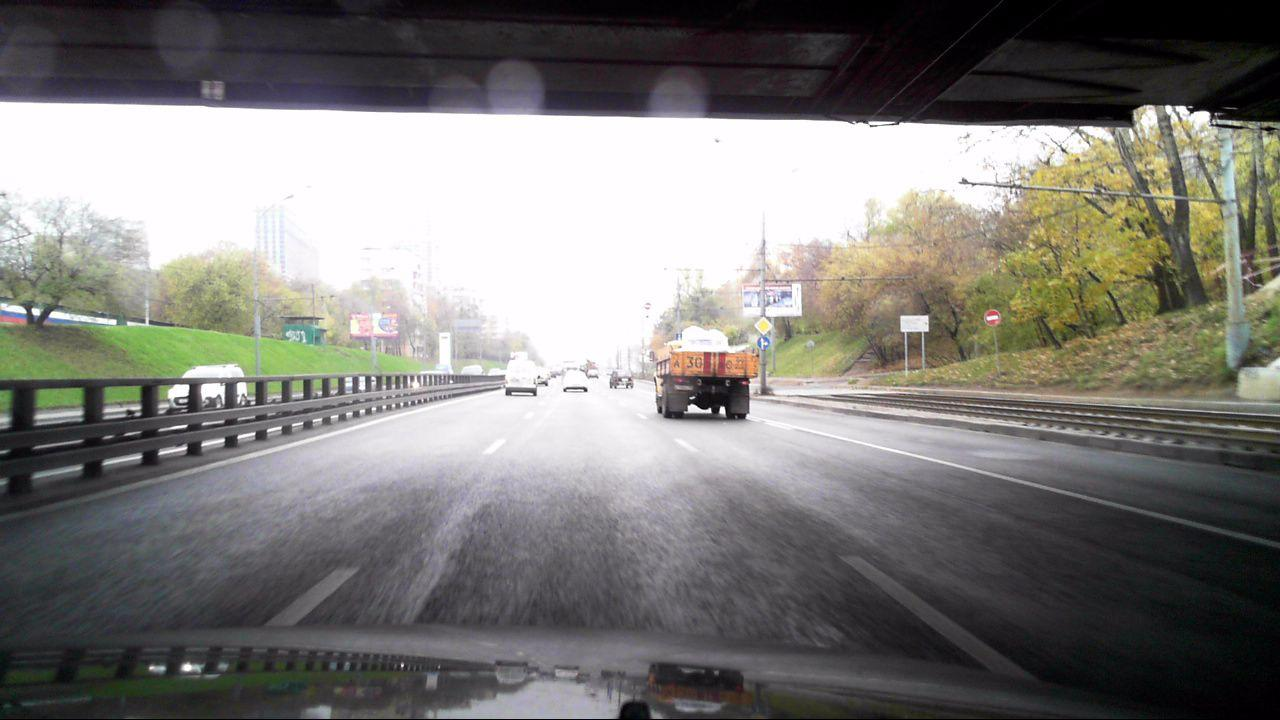road_sign: (982, 307, 1001, 327), (754, 316, 773, 335), (756, 335, 771, 350)
